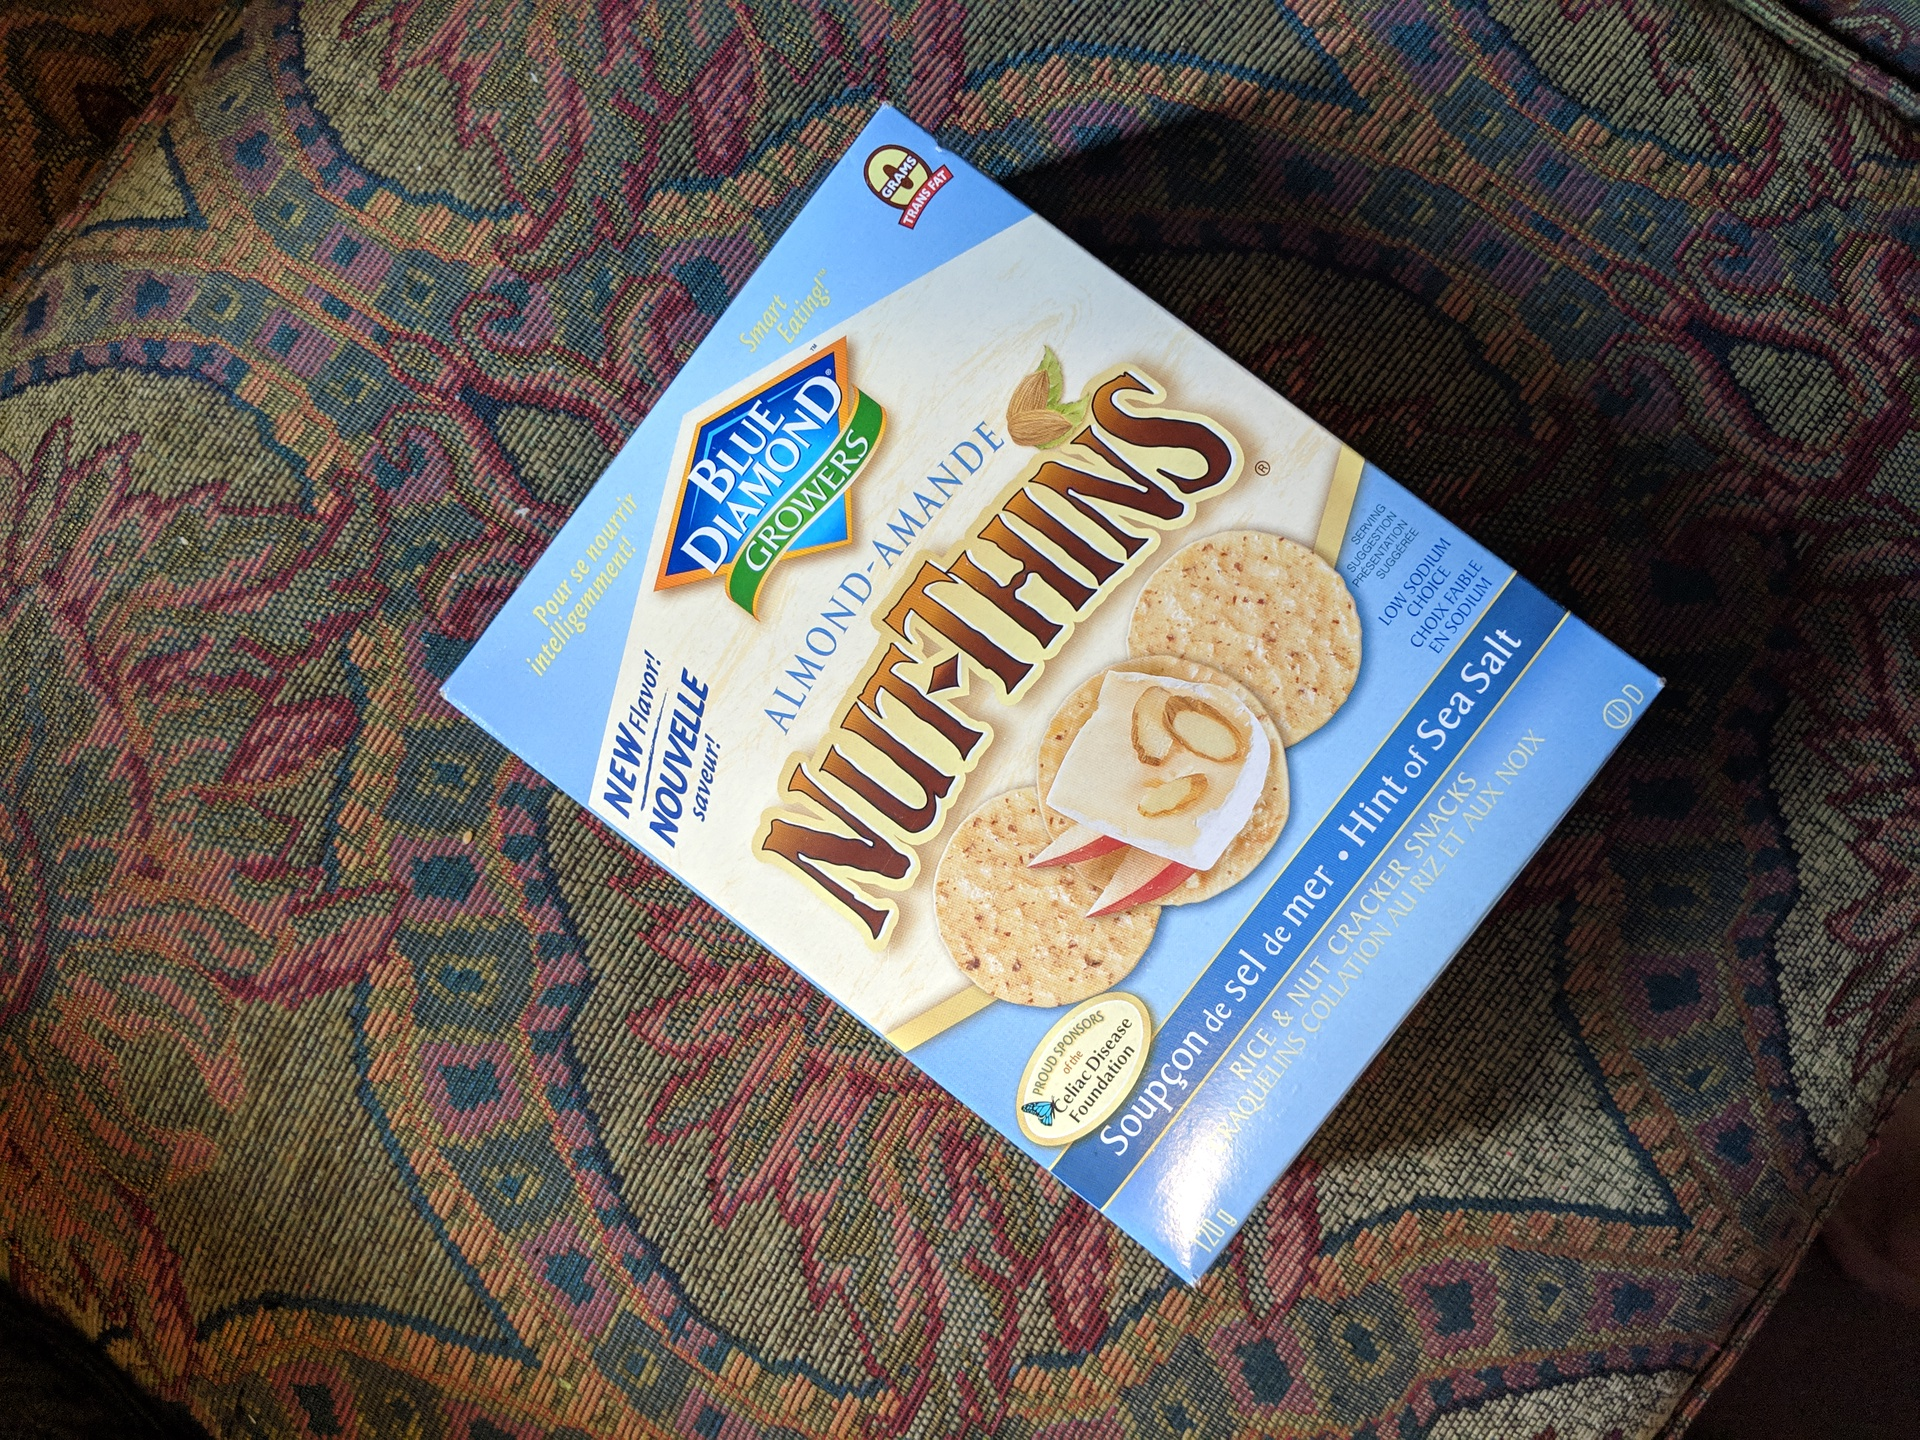blue_diamond_nut_thins_almond_seasalt: (517, 175, 1575, 1199)
